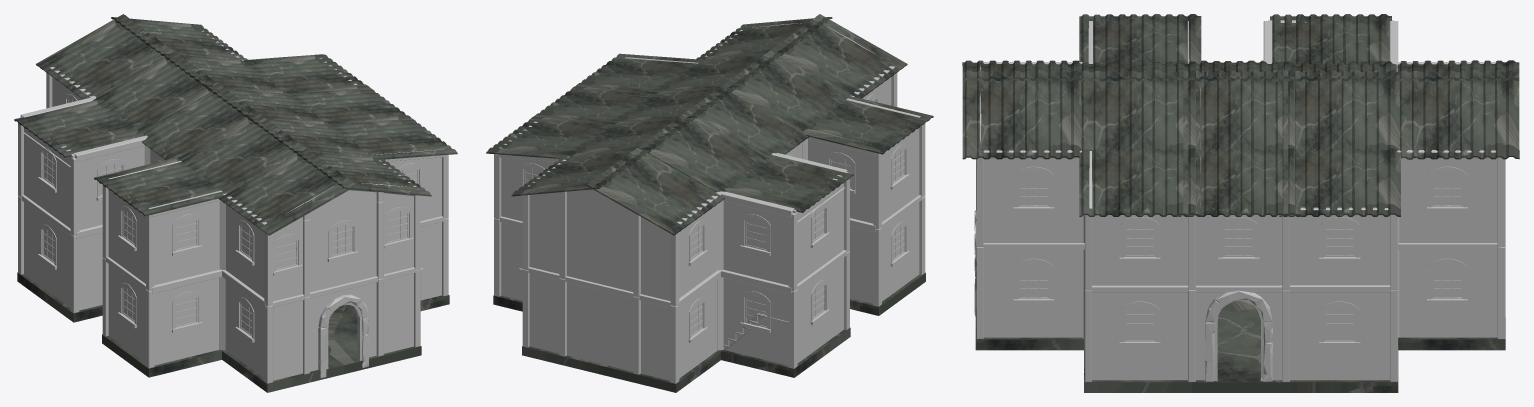
Rendered from House6.fbx.
The picture shows the model from 3 angles, left to right: view 1: azimuth 30°, elevation 25°; view 2: azimuth 150°, elevation 25°; view 3: azimuth 270°, elevation 25°; orthographic projection. The views are drawn at different scales.
Parts seen in each view (by area): view 1: House6_LOD0; view 2: House6_LOD0; view 3: House6_LOD0.
Boxes of the visible parts, x1=… form: House6_LOD0: x1=14, y1=14, x2=457, y2=392; House6_LOD0: x1=486, y1=14, x2=933, y2=392; House6_LOD0: x1=962, y1=14, x2=1519, y2=392.
Size of what is drawn, in the model's own units: 991 by 585 by 1276.
